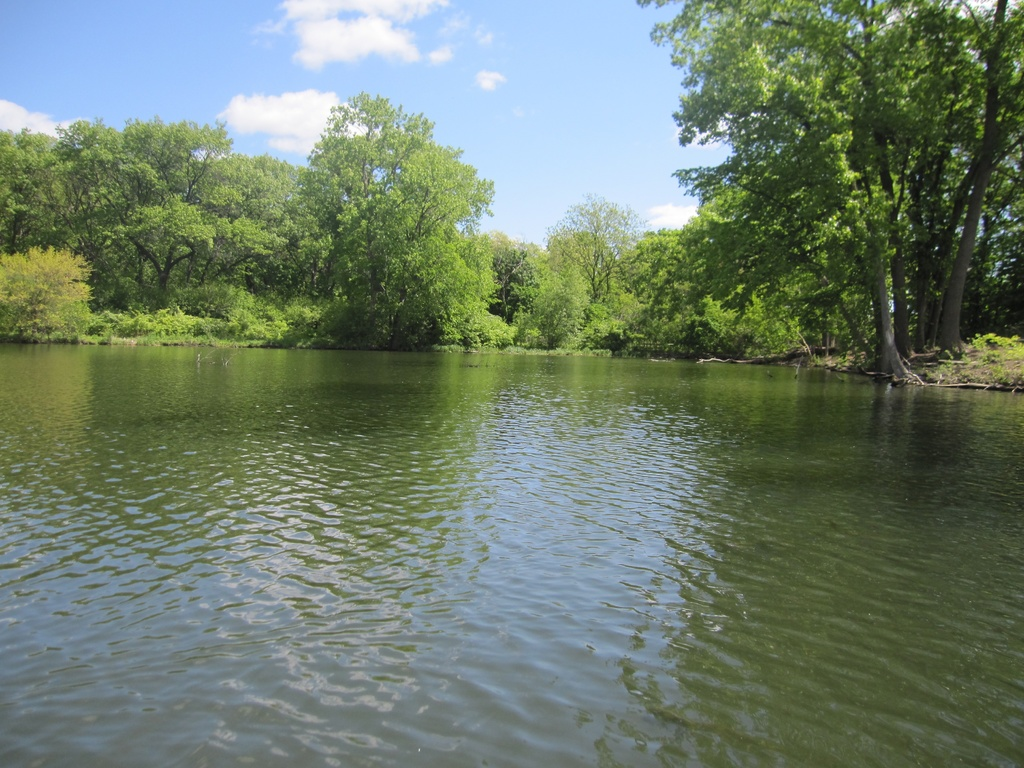Tree: (0, 94, 638, 336), (636, 0, 1023, 385)
